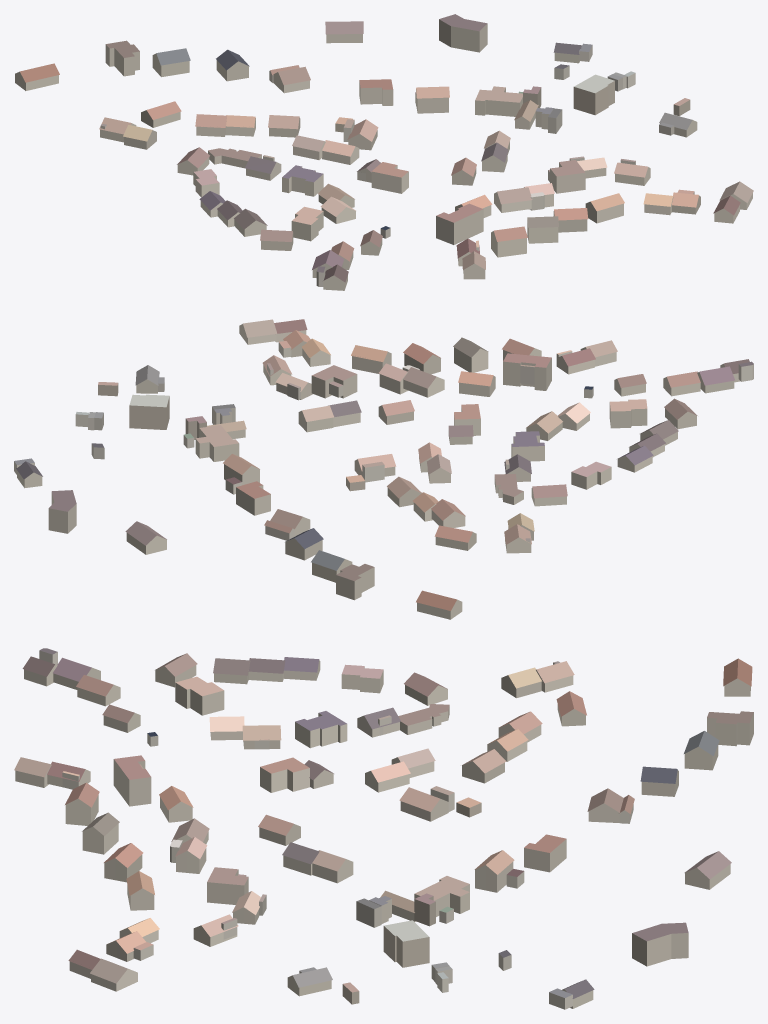
3 views of the same model, one above another, from view 1: azimuth 30°, elevation 25°; view 2: azimuth 150°, elevation 25°; view 3: azimuth 270°, elevation 25° (orthographic). The views are drawn at different scales.
Parts seen in each view (by area): view 1: tuile; view 2: tuile; view 3: tuile.
Boxes of the visible parts, x1,y1,x2,y2 form: tuile: [15, 14, 753, 290]; tuile: [14, 319, 753, 619]; tuile: [14, 648, 753, 1009].
Size of the model in its own units: 246 by 30.3 by 260.
